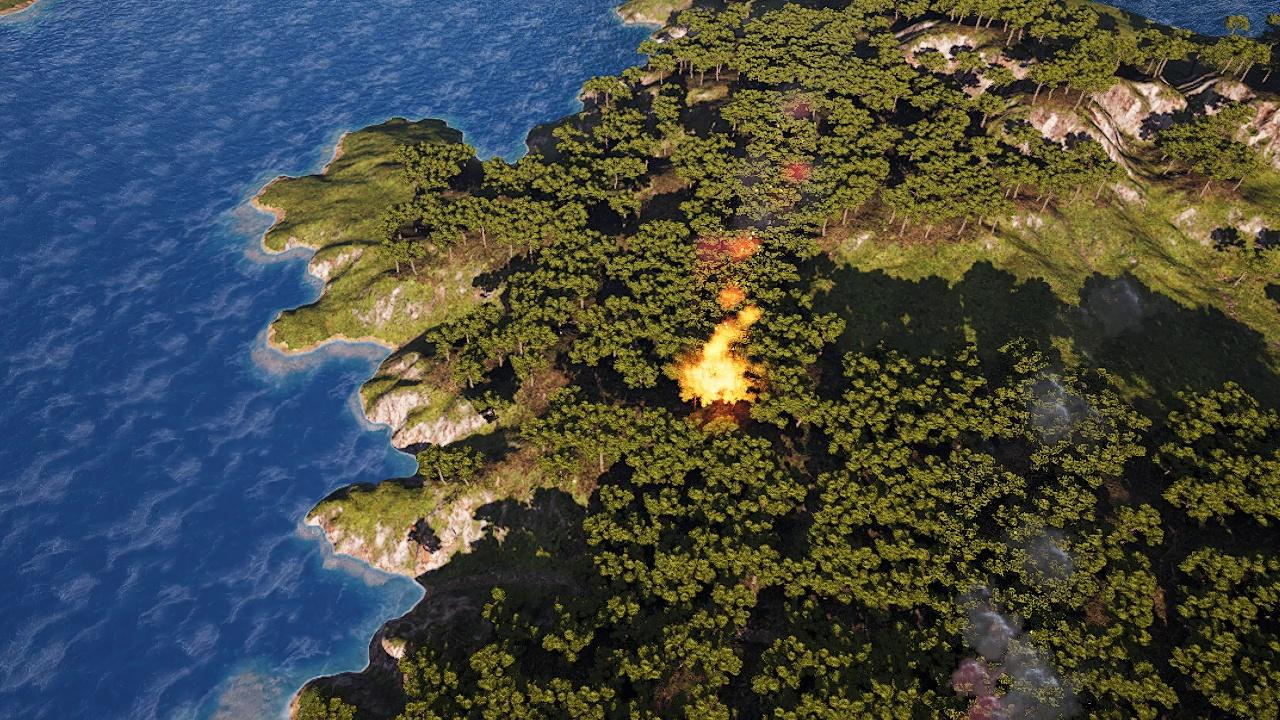fire: (678, 325, 756, 409)
smoke: (942, 526, 1085, 718), (1024, 373, 1089, 448), (779, 158, 811, 184)
